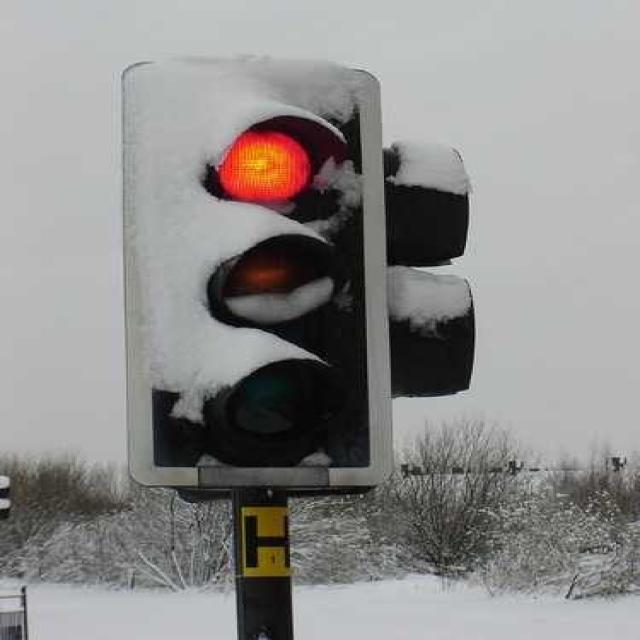Traffic Light -Red-: (104, 52, 406, 500)
